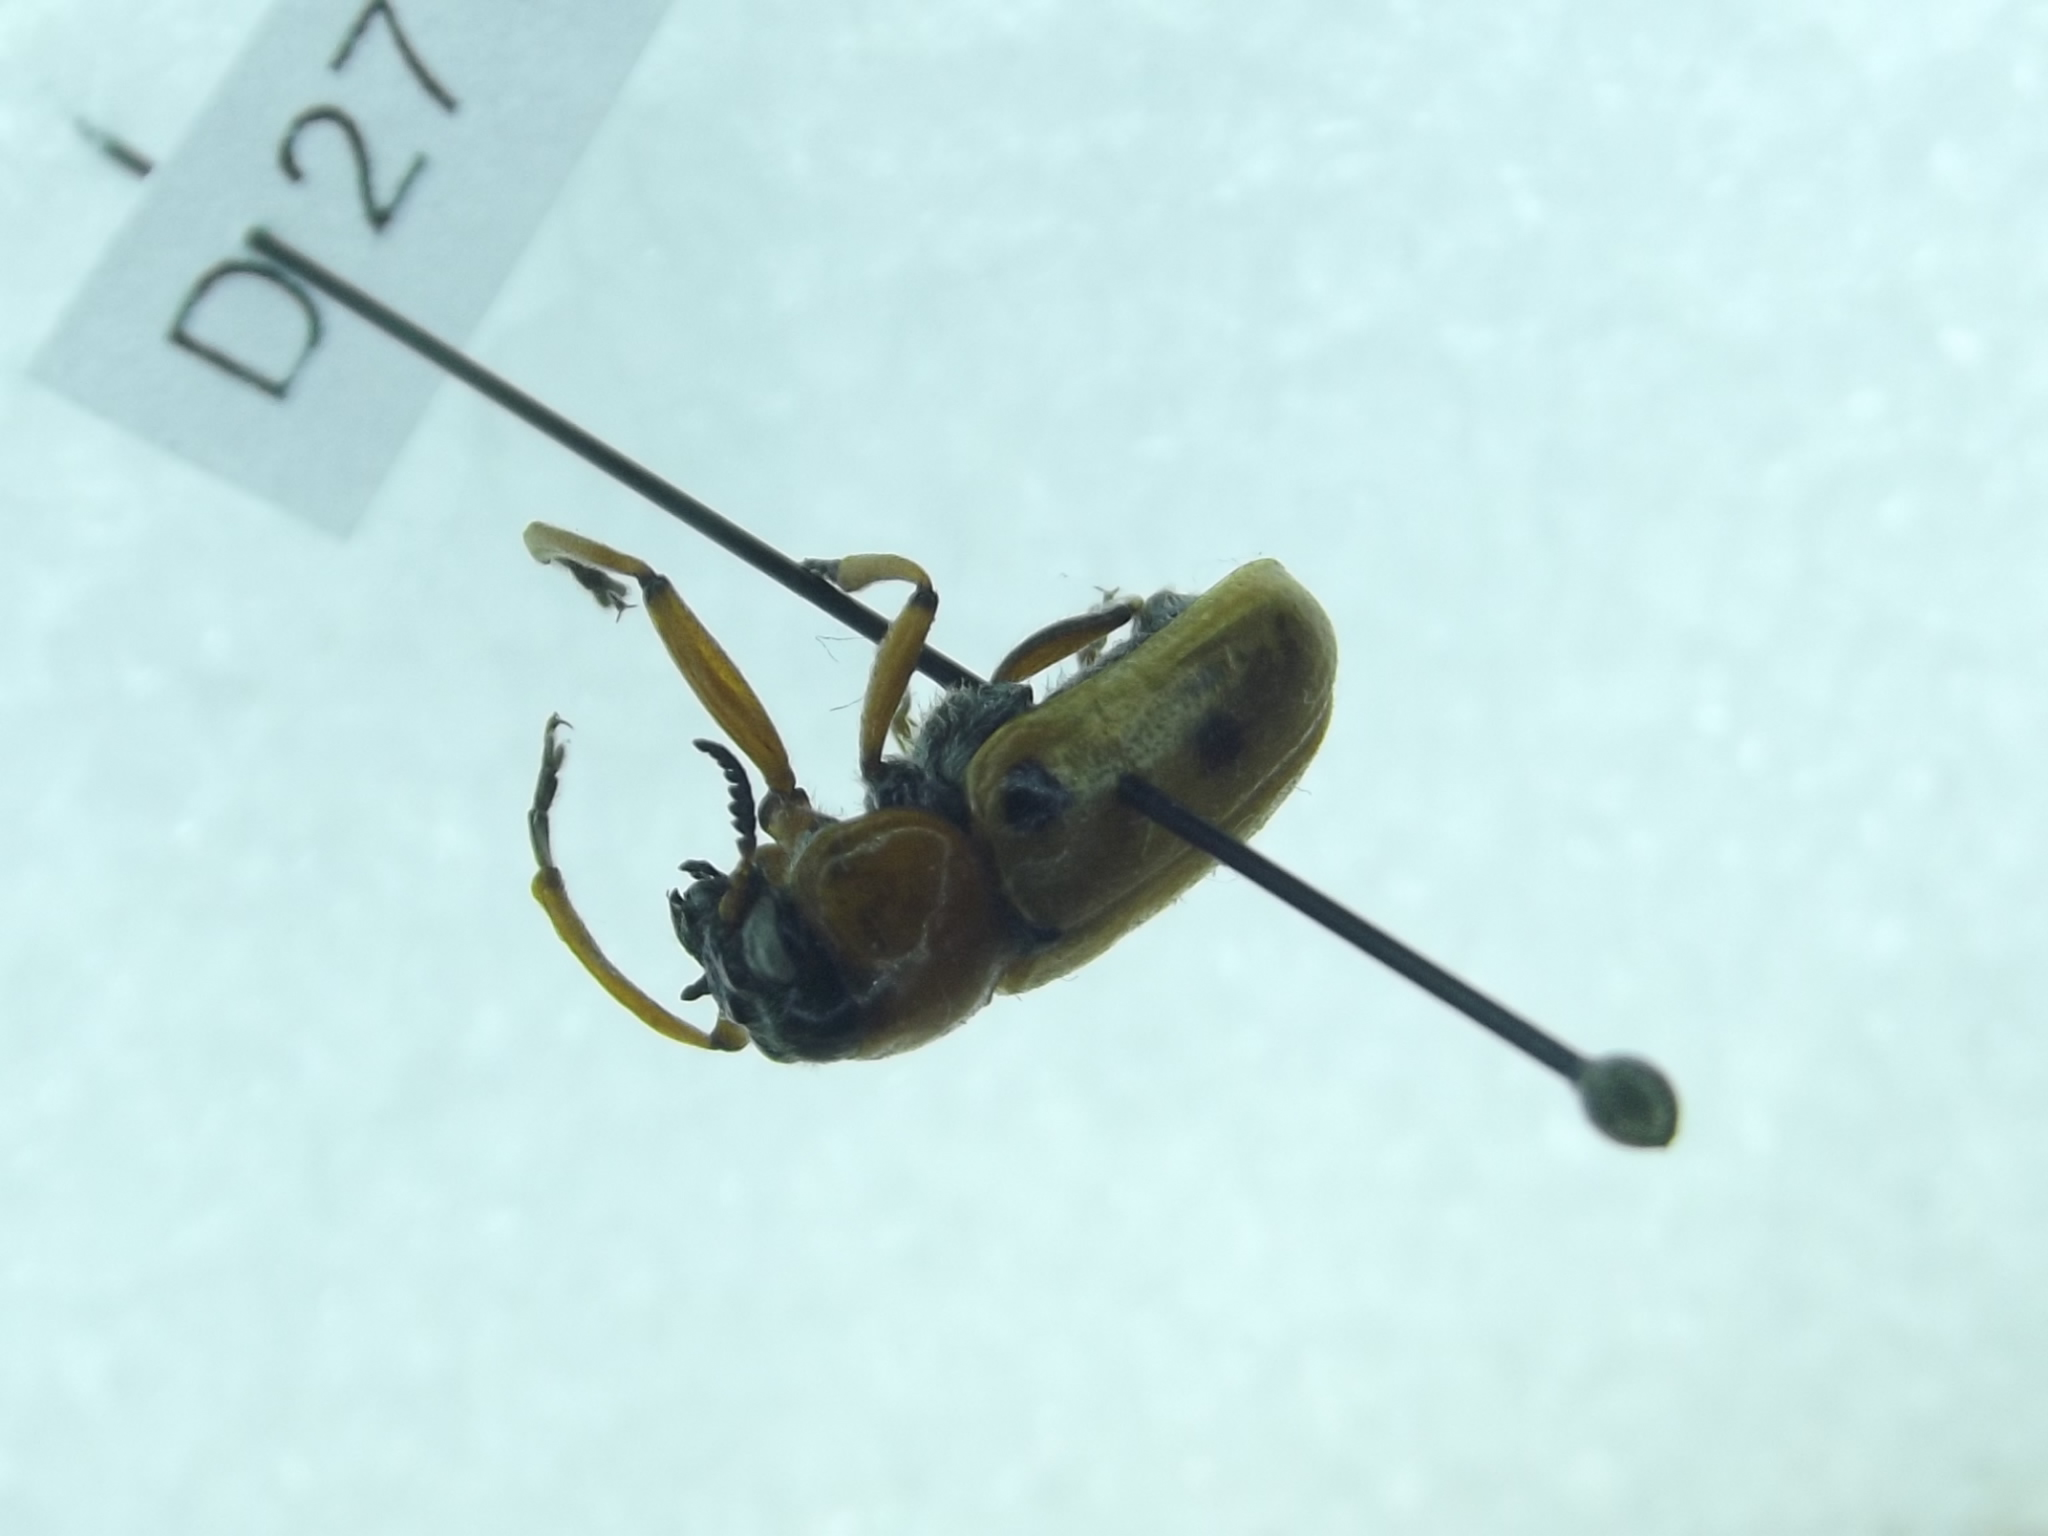Tituboea_macropus: (482, 486, 1384, 1070)
